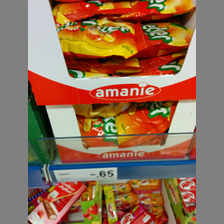candy: (52, 4, 150, 63), (28, 180, 87, 224)
